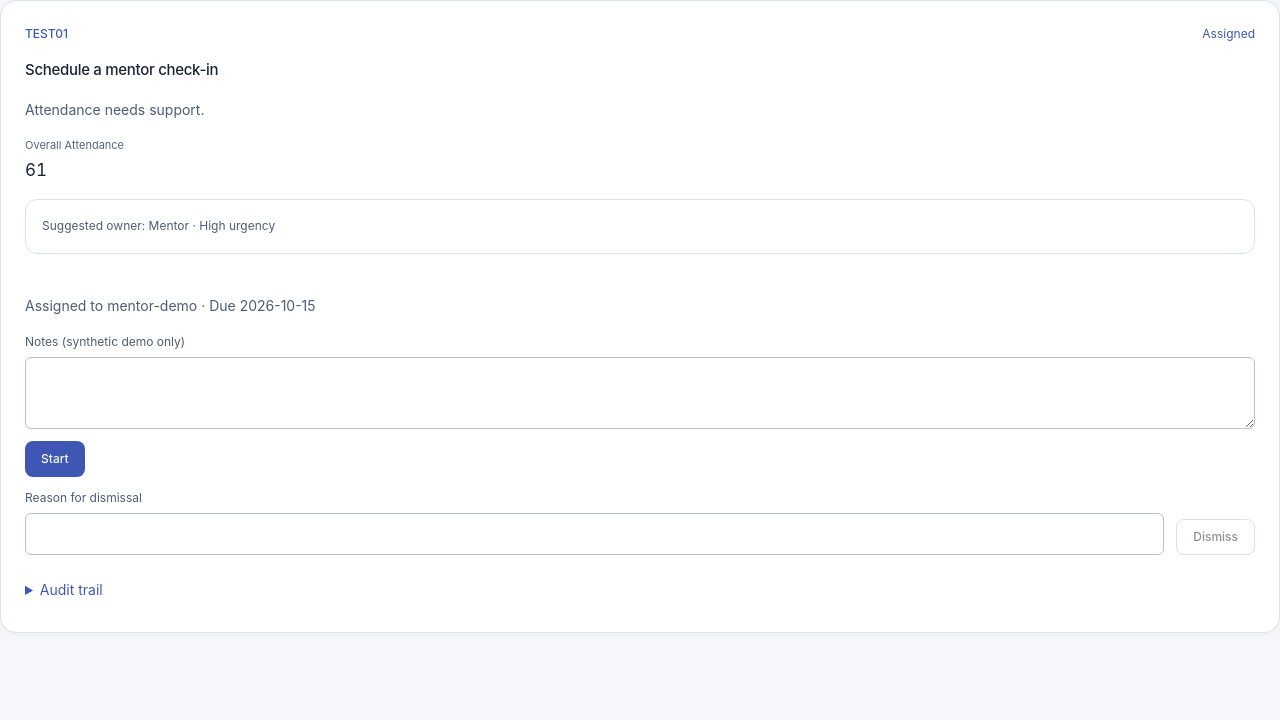
Test: Human-reviewed intervention actions › keeps server validation failures visible
Click the button "Start" at (55, 460), box [25,442,85,478]
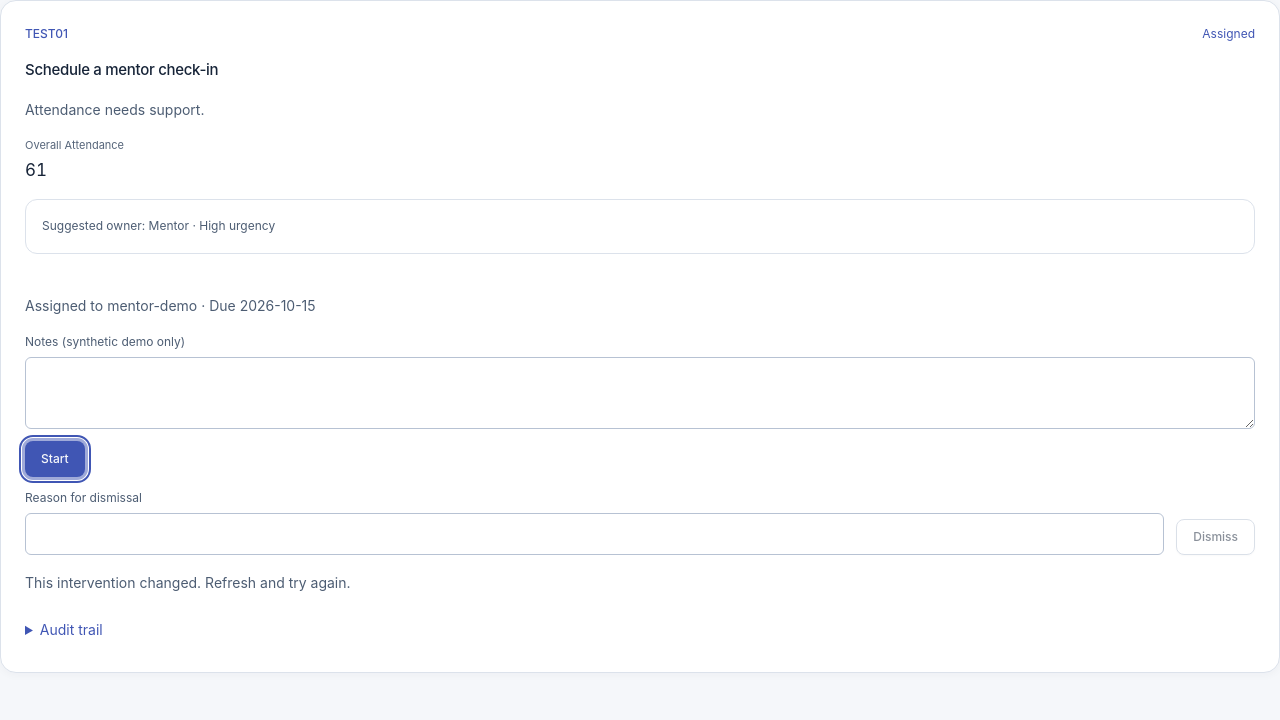
Now the message shows "Refresh and try again", box [25,574,351,592]
